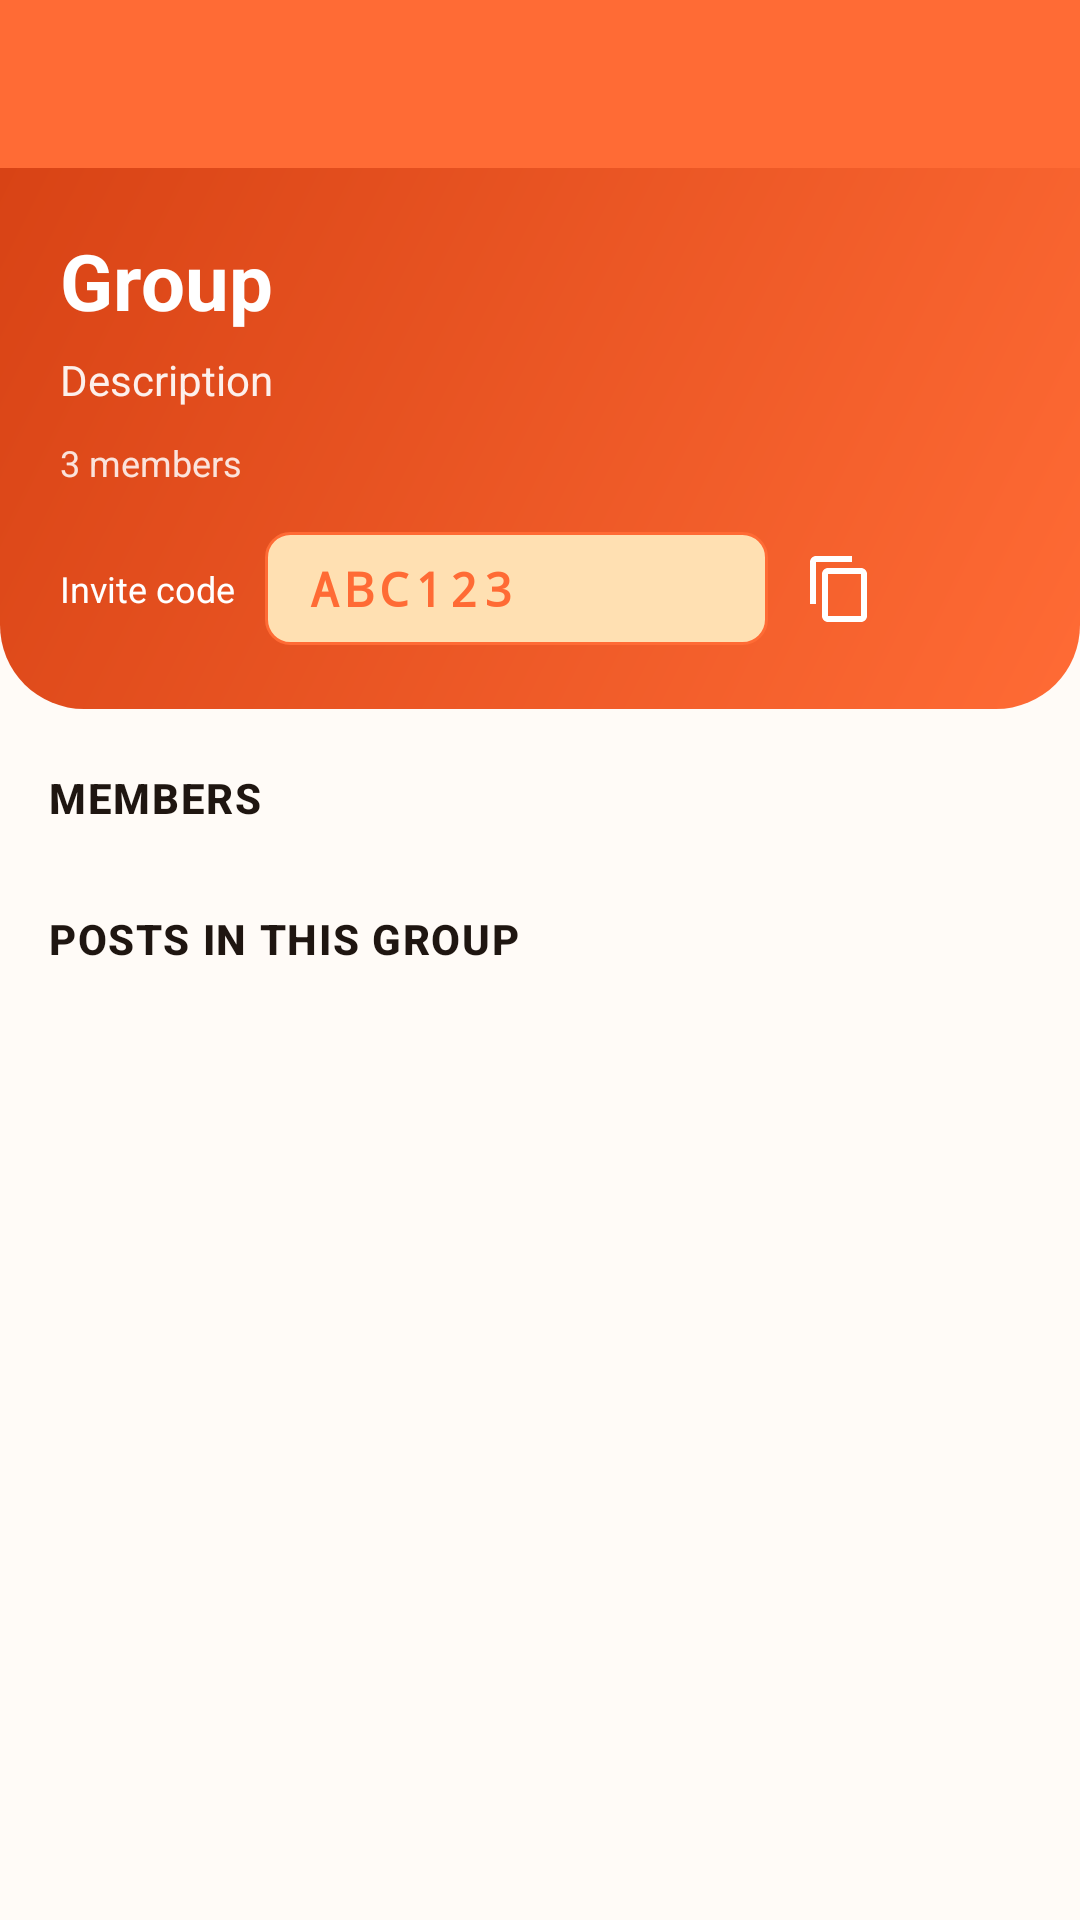

Where icons sit on this 1080px×1920px app screen, as (x1, y1, x2, y2):
Copy: (810, 556, 867, 622)
